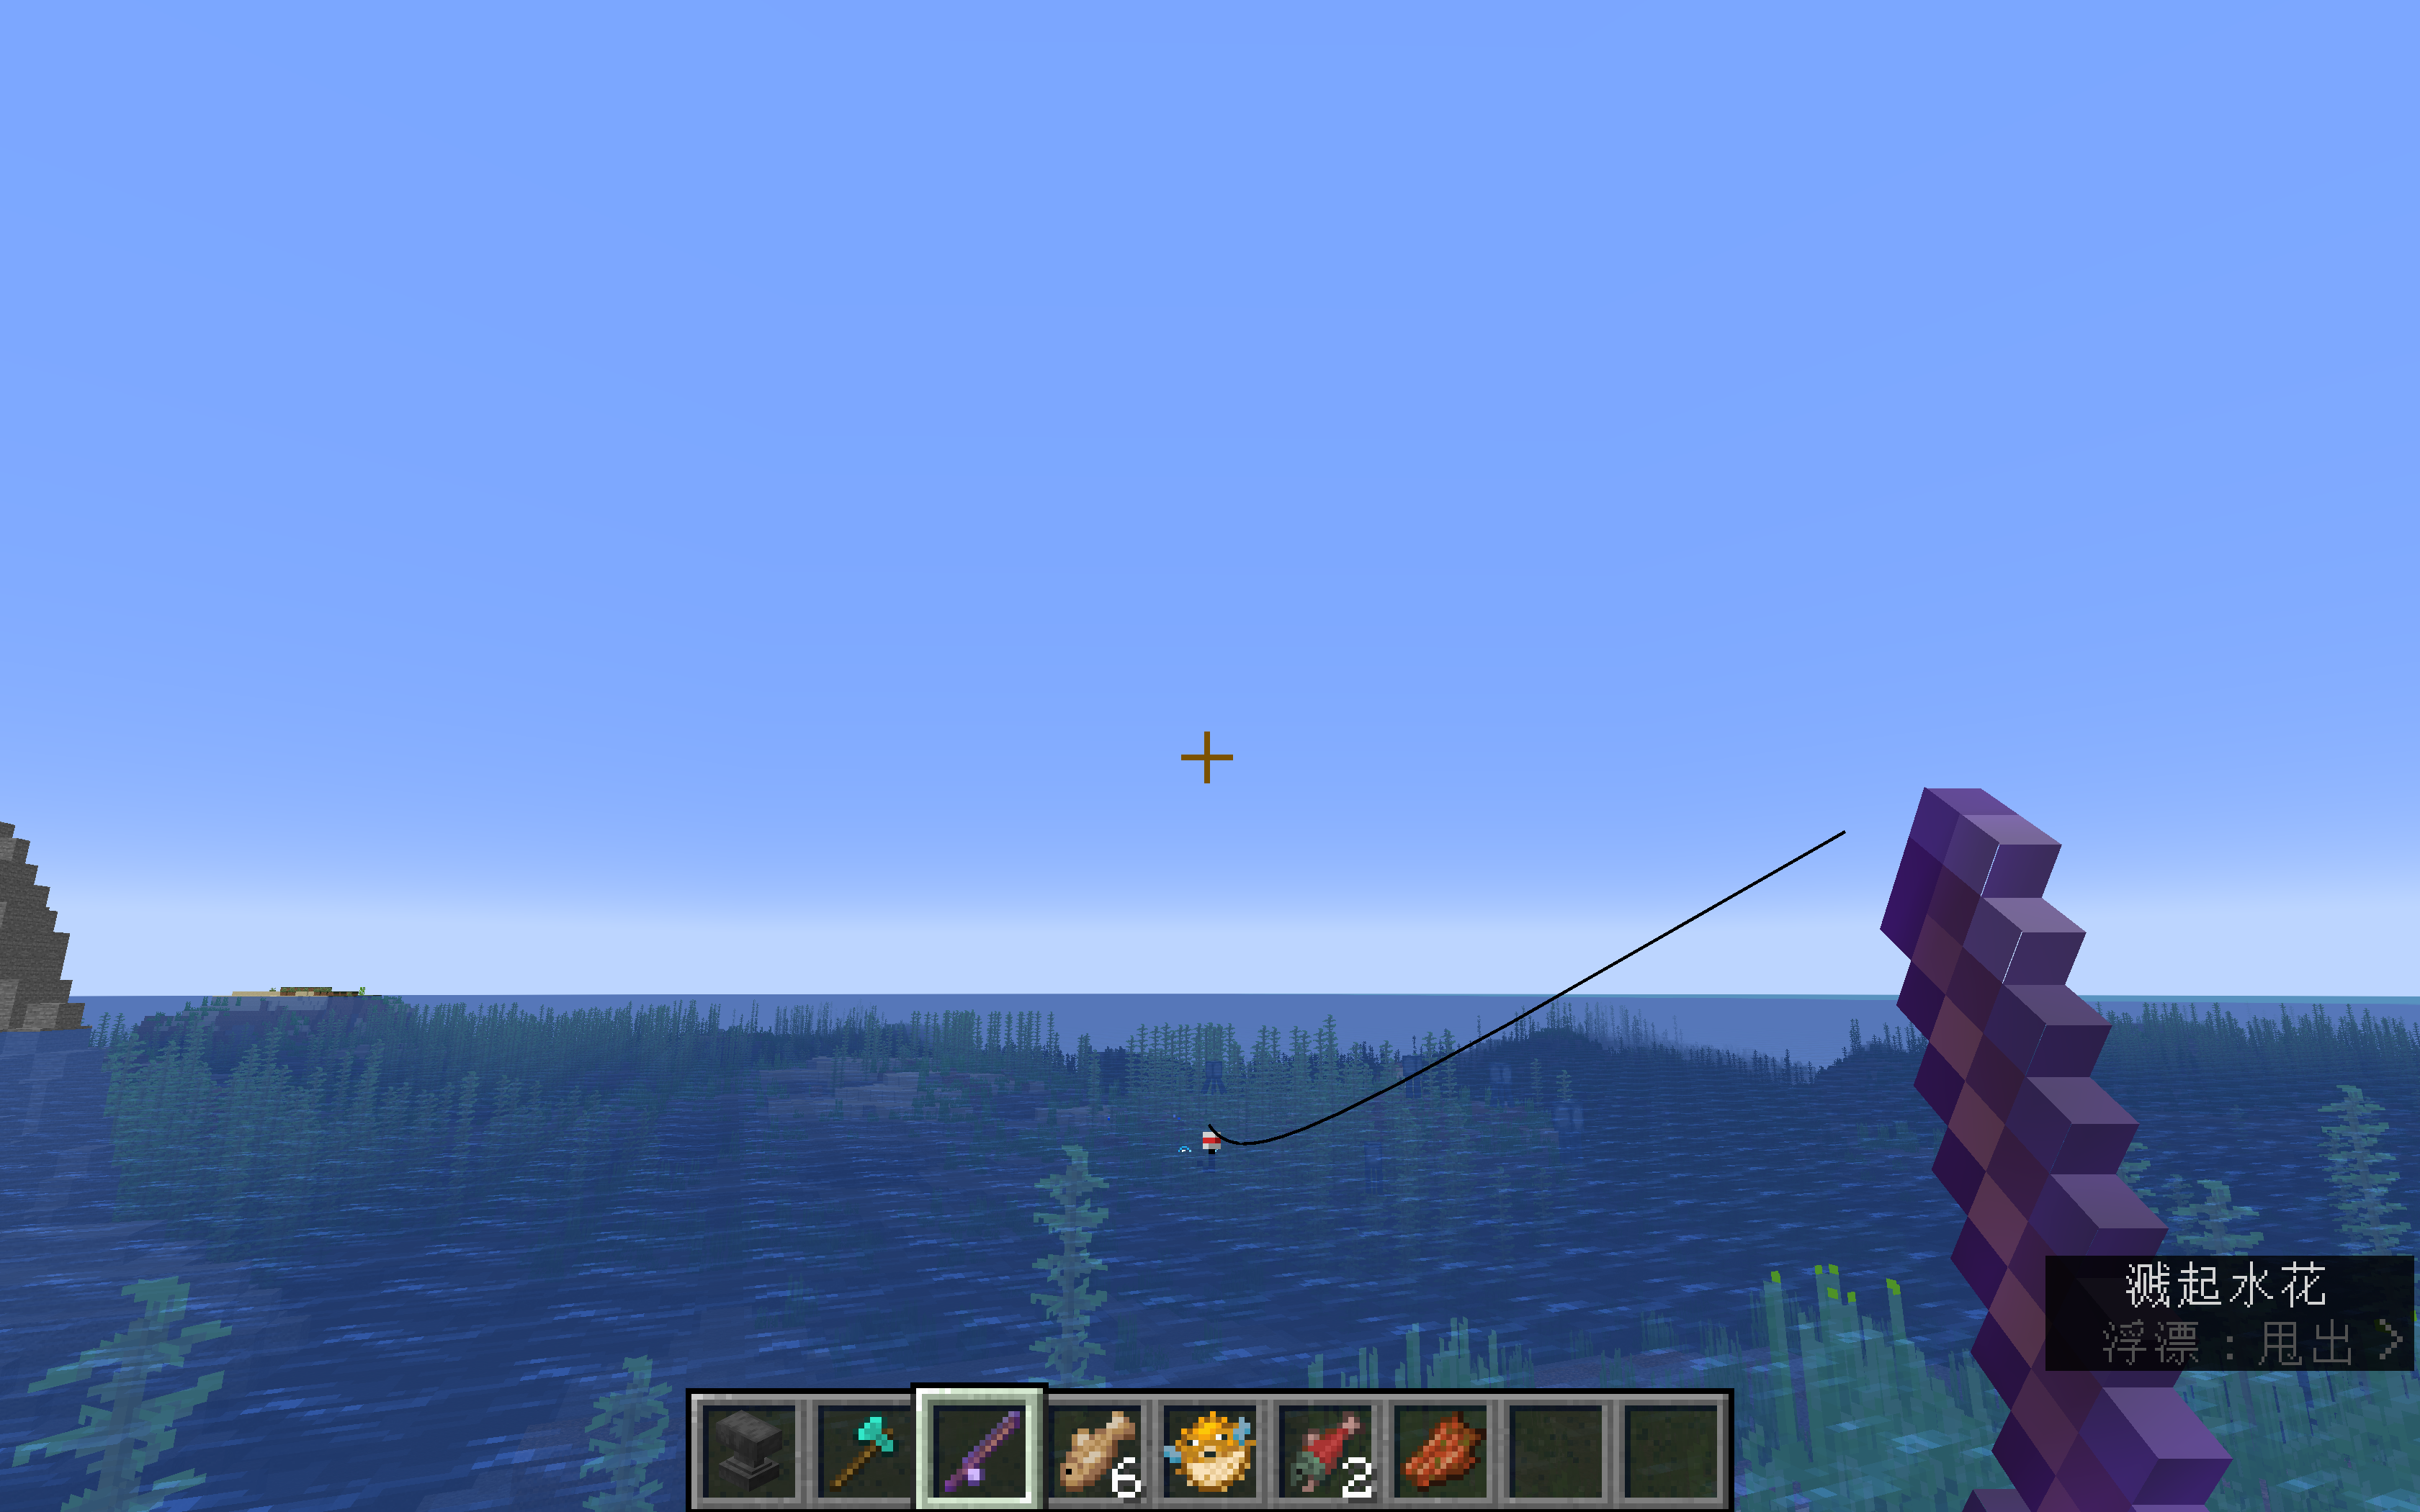inf: (2044, 1256, 2411, 1371)
